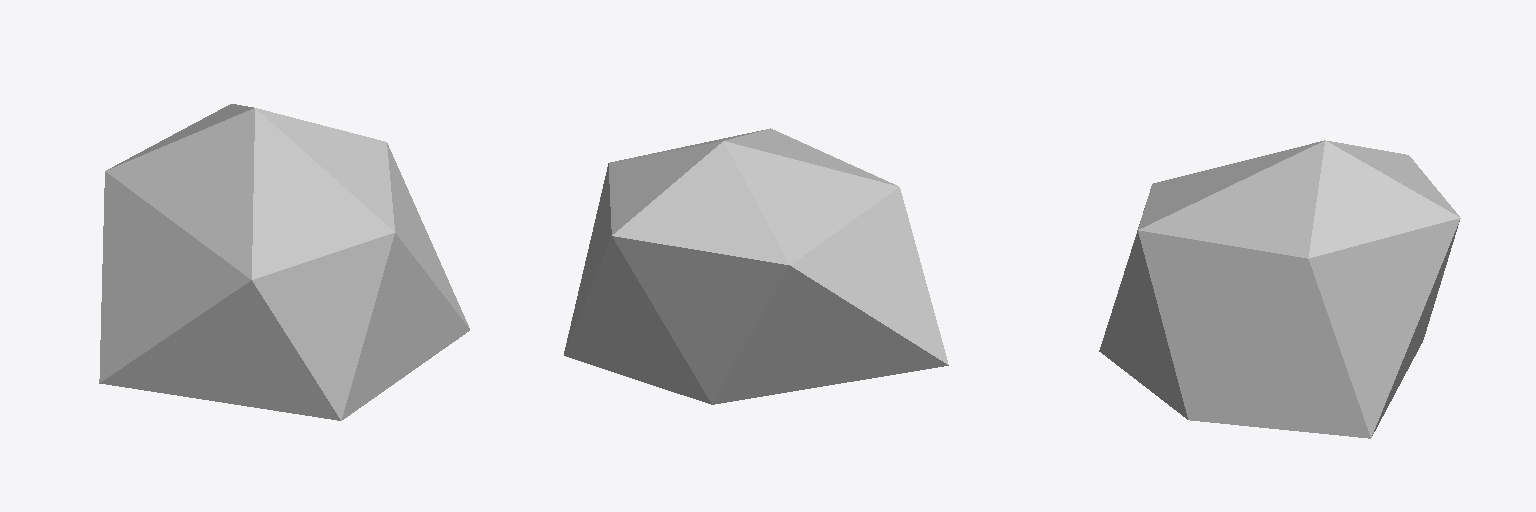
Rendered from Rock.obj.
The picture shows the model from 3 angles: view 1: azimuth 30°, elevation 25°; view 2: azimuth 150°, elevation 25°; view 3: azimuth 270°, elevation 25°; orthographic projection.
Visible parts, largest first — view 1: Cube; view 2: Cube; view 3: Cube.
Part boxes in pixels (x1,y1,x2,y2): Cube: (99, 104, 469, 420); Cube: (564, 128, 948, 404); Cube: (1099, 140, 1460, 438).
Bounding box in the file's own units: 1.98 × 1.41 × 1.83.